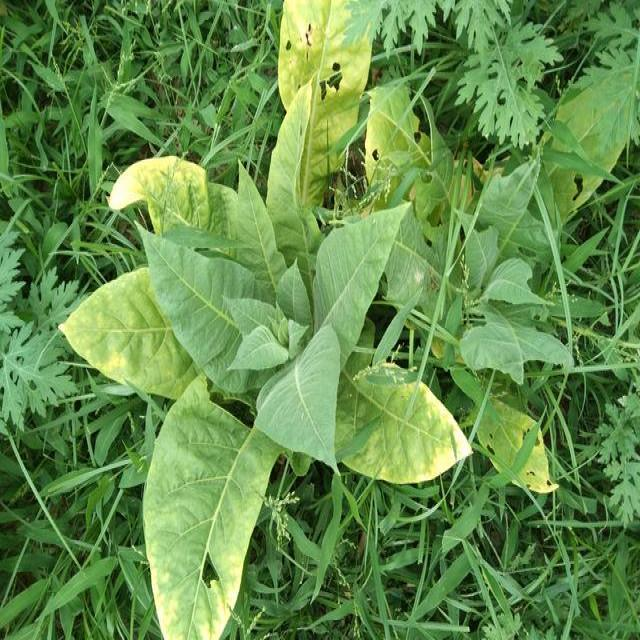crop: (58, 76, 474, 626)
